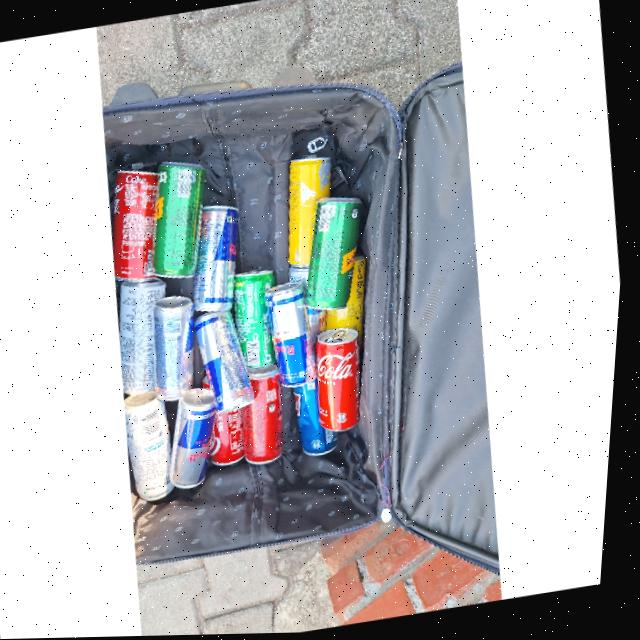Coca Cola: (106, 170, 165, 283), (312, 330, 375, 435), (209, 407, 255, 470)
Coca Cola Zero: (242, 369, 298, 467)
Redbull: (183, 205, 252, 311), (194, 311, 263, 410), (266, 287, 326, 388), (154, 301, 205, 397), (172, 392, 222, 488)
Redbull Yellow Edition: (278, 155, 338, 268), (326, 303, 372, 341)
Schweppes: (299, 199, 376, 307), (147, 165, 214, 279)
Sprite: (229, 270, 283, 369)
Thums Up: (292, 385, 348, 459)
White Monster: (114, 279, 179, 393), (125, 399, 182, 497)
